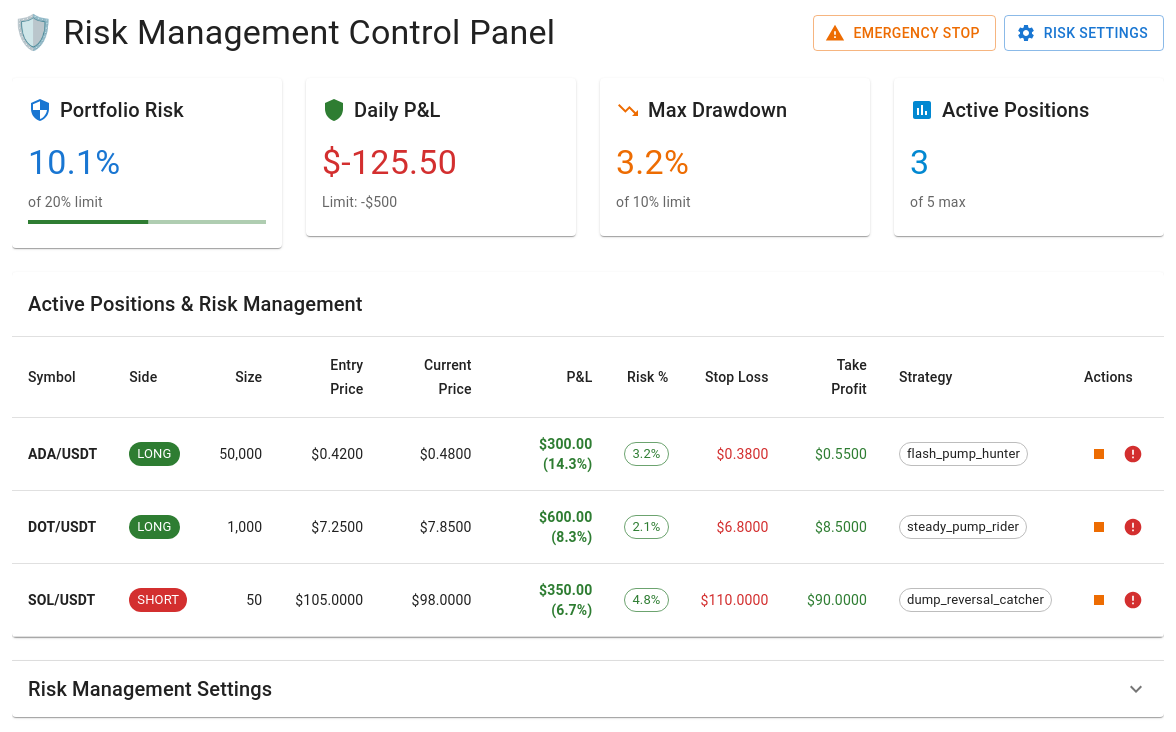
Test: RiskManagementPage › handles API errors gracefully
Click the button "Emergency Stop".
click(905, 33)  # box [813,15,996,51]
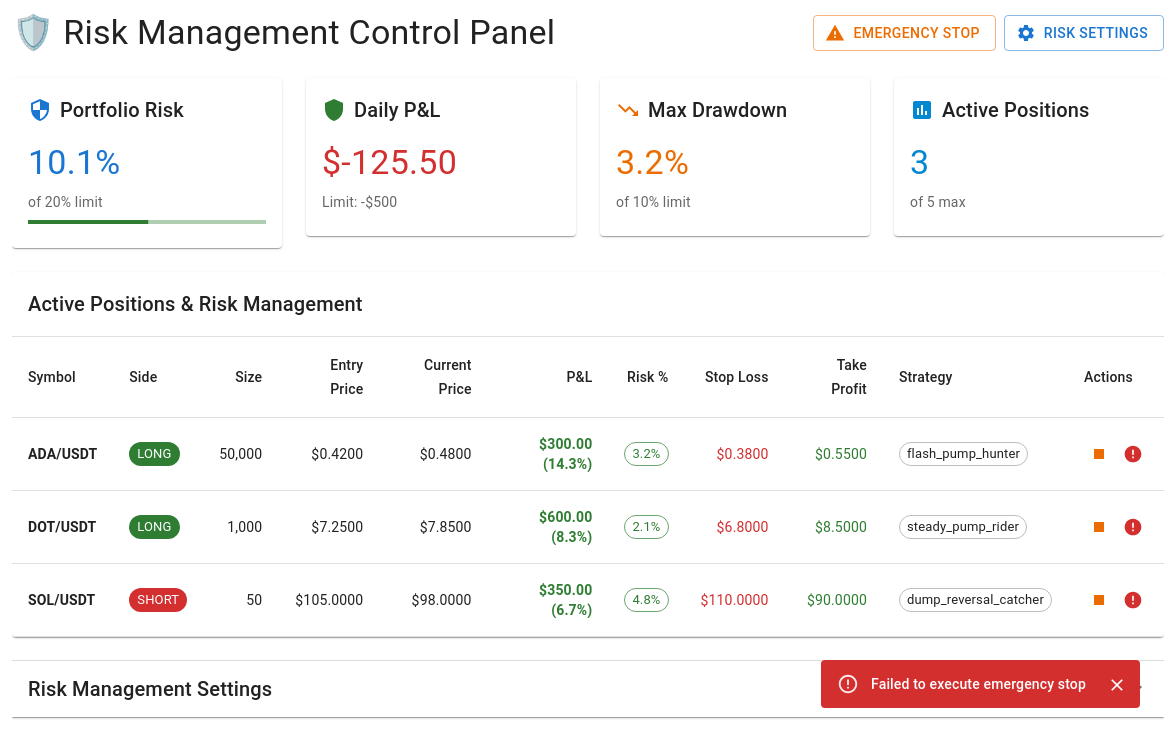
Result: the text "Failed to execute emergency stop" is shown at [871,676,1086,692]
